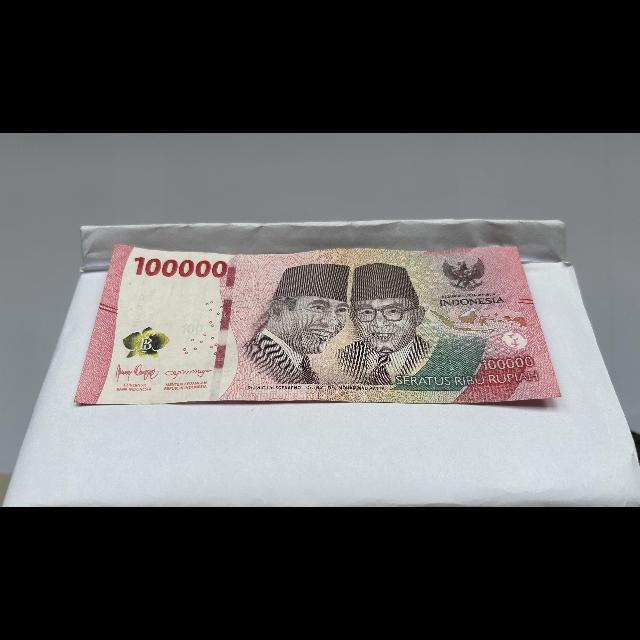Asli-100k: (70, 240, 569, 406)
Tinta-Asli-100k: (117, 325, 173, 360)
